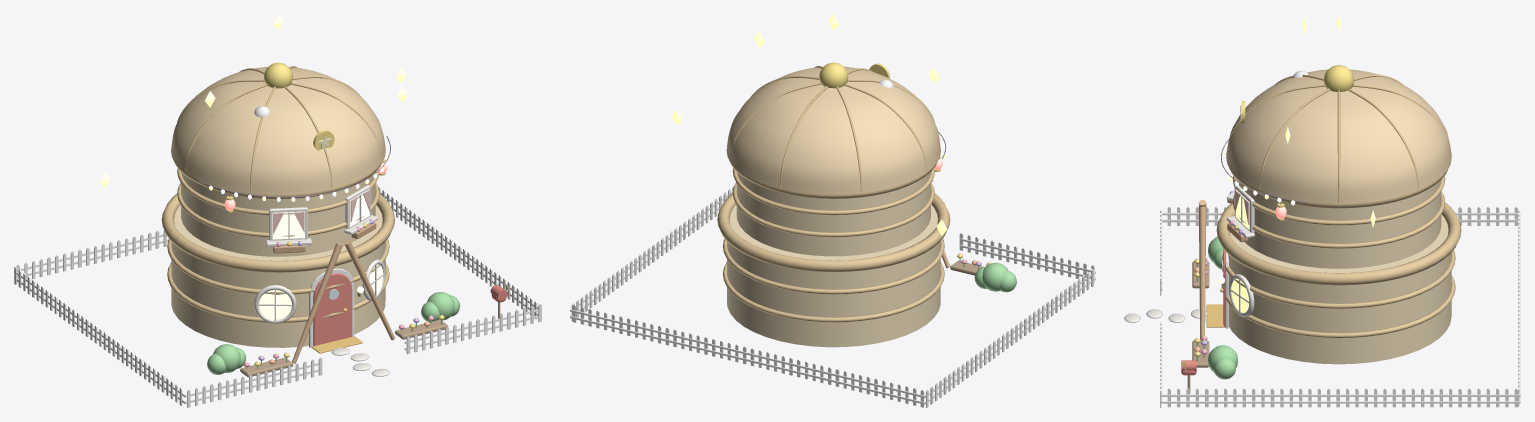
Rendered from building_dumpling_L10.glb.
3 views of the same model, side by side, from view 1: azimuth 30°, elevation 25°; view 2: azimuth 150°, elevation 25°; view 3: azimuth 270°, elevation 25° (orthographic). The views are drawn at different scales.
Visible parts, largest first — view 1: Body, dumpling_L10; view 2: Body, dumpling_L10; view 3: Body, dumpling_L10.
Boxes of the visible parts, <box> form: Body: <box>161,62,394,363</box>; dumpling_L10: <box>14,14,541,407</box>; Body: <box>717,62,950,347</box>; dumpling_L10: <box>570,14,1095,407</box>; Body: <box>1198,65,1461,364</box>; dumpling_L10: <box>1124,14,1520,407</box>.
Size of the model in its own units: 25.35 by 19.77 by 23.24.
